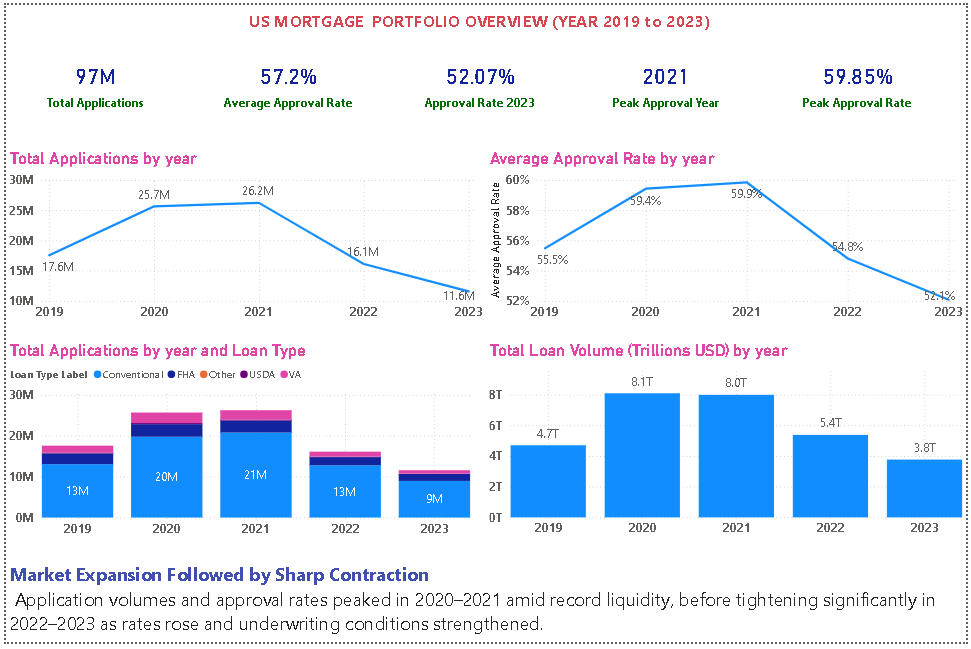

Layout of this report page (visuals, bound fields, positions):
{"tool":"powerbi","page":{"name":"Macro Cycle","canvas":[1280,850],"ordinal":0},"visuals":[{"type":"card","fields":{"Values":["hmda_underwriting_features.Total Applications"]},"box":[0,48,240,112],"z":0},{"type":"card","fields":{"Values":["hmda_underwriting_features.Average Approval Rate"]},"box":[256,48,240,112],"z":1000},{"type":"card","fields":{"Values":["hmda_underwriting_features.Approval Rate 2023"]},"box":[512,48,240,112],"z":2000},{"type":"card","fields":{"Values":["hmda_underwriting_features.Peak Approval Rate"]},"box":[992,48,288,112],"z":3000},{"type":"card","fields":{"Values":["hmda_underwriting_features.Peak Approval Year"]},"box":[768,48,224,112],"z":4000},{"type":"lineChart","fields":{"Category":["hmda_underwriting_features.year"],"Y":["hmda_underwriting_features.Total Applications"]},"box":[0,192,640,240],"z":5000},{"type":"textbox","box":[304,0,656,48],"z":6000},{"type":"lineChart","fields":{"Category":["hmda_underwriting_features.year"],"Y":["hmda_underwriting_features.Average Approval Rate"]},"box":[640,192,640,240],"z":7000},{"type":"columnChart","title":"Total Applications by year and Loan Type","fields":{"Category":["hmda_underwriting_features.year"],"Y":["hmda_underwriting_features.Total Applications"],"Series":["hmda_underwriting_features.Loan Type Label"]},"box":[0,448,624,272],"z":8000},{"type":"clusteredColumnChart","title":"Total Loan Volume (Trillions USD) by year","fields":{"Category":["hmda_underwriting_features.year"],"Y":["hmda_underwriting_features.Total Loan Volume ($000s)"]},"box":[640,448,640,272],"z":9000},{"type":"textbox","box":[0,736,1280,112],"z":10000}]}

Visuals, with their boxes in screenshot pixels (x1, y1, x2, y2), scaled from the page's 1280x850 canvas onto the 971x649 screenshot:
card - hmda_underwriting_features.Total Applications: <bbox>0, 37, 182, 122</bbox>
card - hmda_underwriting_features.Average Approval Rate: <bbox>194, 37, 376, 122</bbox>
card - hmda_underwriting_features.Approval Rate 2023: <bbox>388, 37, 570, 122</bbox>
card - hmda_underwriting_features.Peak Approval Rate: <bbox>753, 37, 970, 122</bbox>
card - hmda_underwriting_features.Peak Approval Year: <bbox>583, 37, 753, 122</bbox>
lineChart - hmda_underwriting_features.year x hmda_underwriting_features.Total Applications: <bbox>0, 147, 486, 330</bbox>
textbox: <bbox>231, 0, 728, 37</bbox>
lineChart - hmda_underwriting_features.year x hmda_underwriting_features.Average Approval Rate: <bbox>486, 147, 970, 330</bbox>
"Total Applications by year and Loan Type" columnChart: <bbox>0, 342, 473, 550</bbox>
"Total Loan Volume (Trillions USD) by year" clusteredColumnChart: <bbox>486, 342, 970, 550</bbox>
textbox: <bbox>0, 562, 970, 647</bbox>
